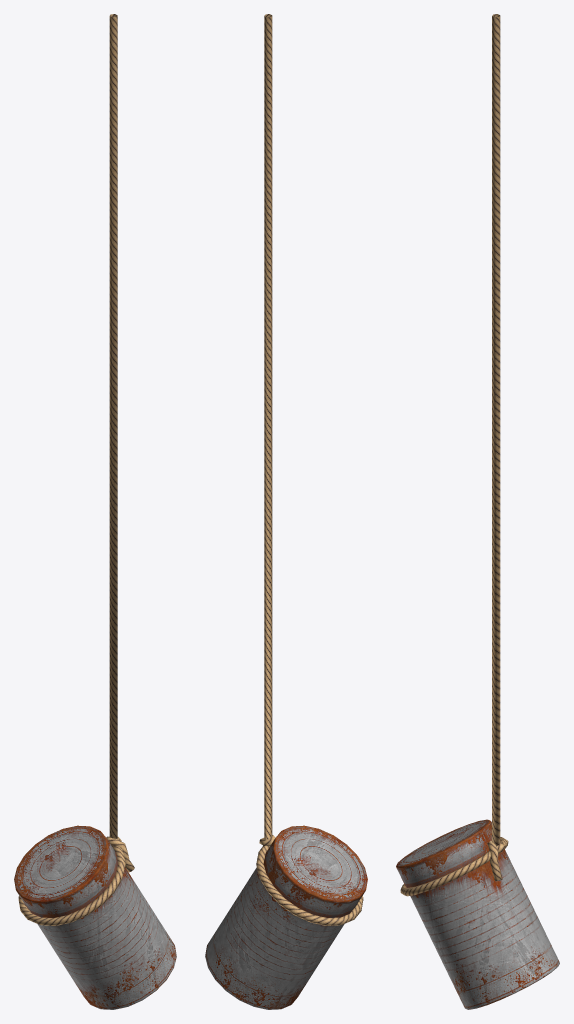
File: TinCan 02.FBX
3 views of the same model, side by side, from view 1: azimuth 30°, elevation 25°; view 2: azimuth 150°, elevation 25°; view 3: azimuth 330°, elevation 25° (orthographic).
Visible parts, largest first — view 1: TinCan 02; view 2: TinCan 02; view 3: TinCan 02.
Boxes of the visible parts, x1=… form: TinCan 02: x1=14, y1=14, x2=176, y2=1009; TinCan 02: x1=205, y1=14, x2=367, y2=1009; TinCan 02: x1=396, y1=14, x2=559, y2=1009.
Bounding box in the file's own units: 12.1 × 77.35 × 8.47.
Materials: 1 (1 with a texture image).
